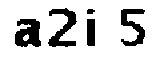2: (46, 7, 79, 50)
5: (118, 5, 148, 50)
a: (11, 15, 43, 49)
i: (83, 5, 104, 49)
